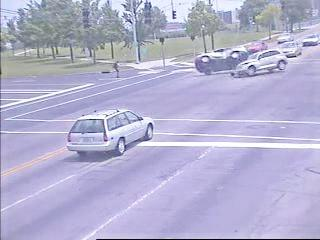Car: (67, 108, 155, 155), (235, 49, 289, 76), (195, 48, 248, 73), (278, 41, 303, 57), (302, 34, 320, 47), (247, 41, 266, 52), (277, 32, 294, 44)
Major Accident: (194, 46, 290, 78)
